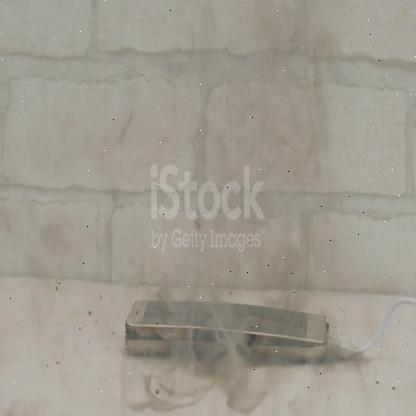smoke: (114, 12, 344, 414)
